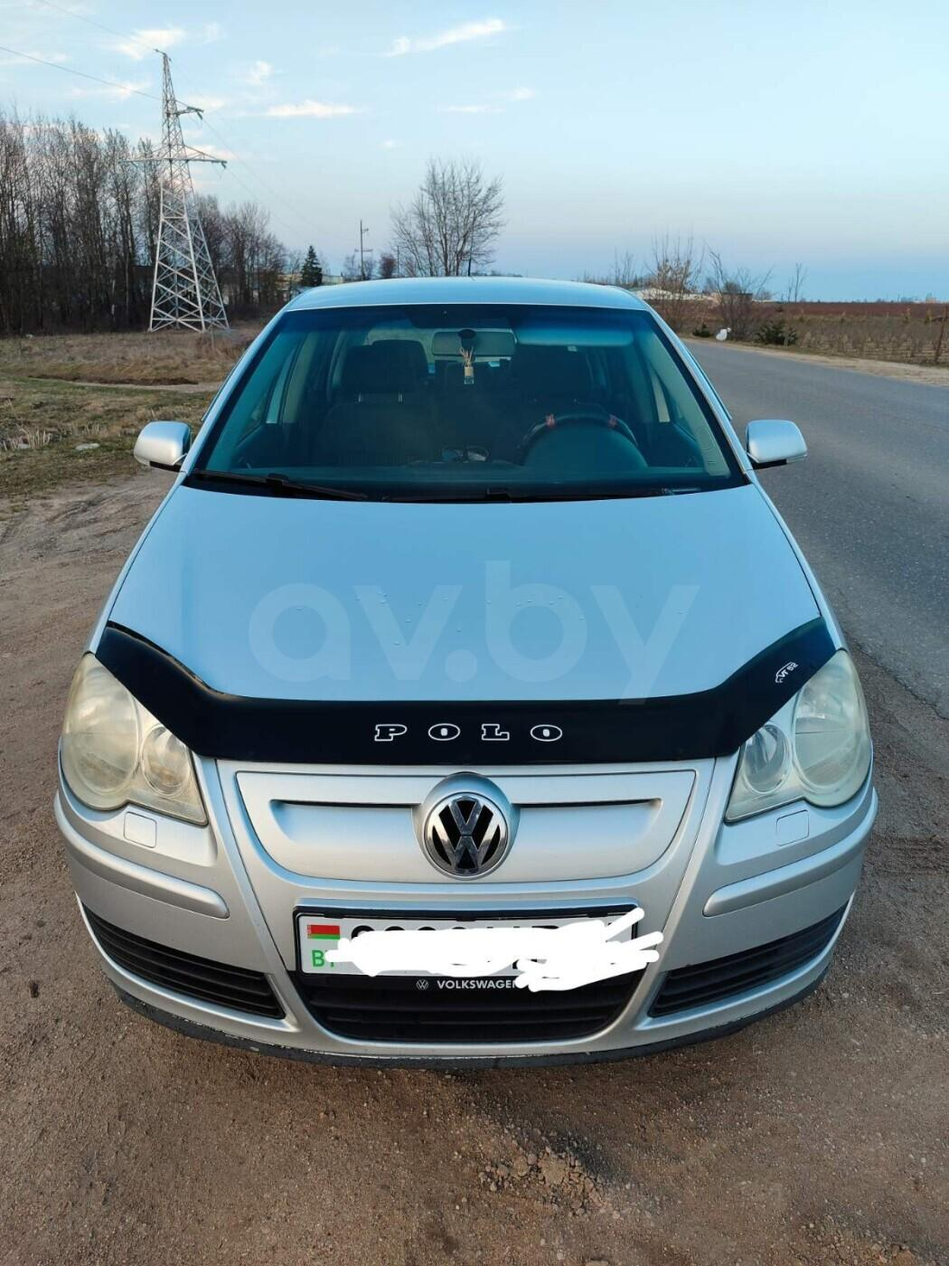Polo_2005-2009: (56, 268, 868, 1083)
